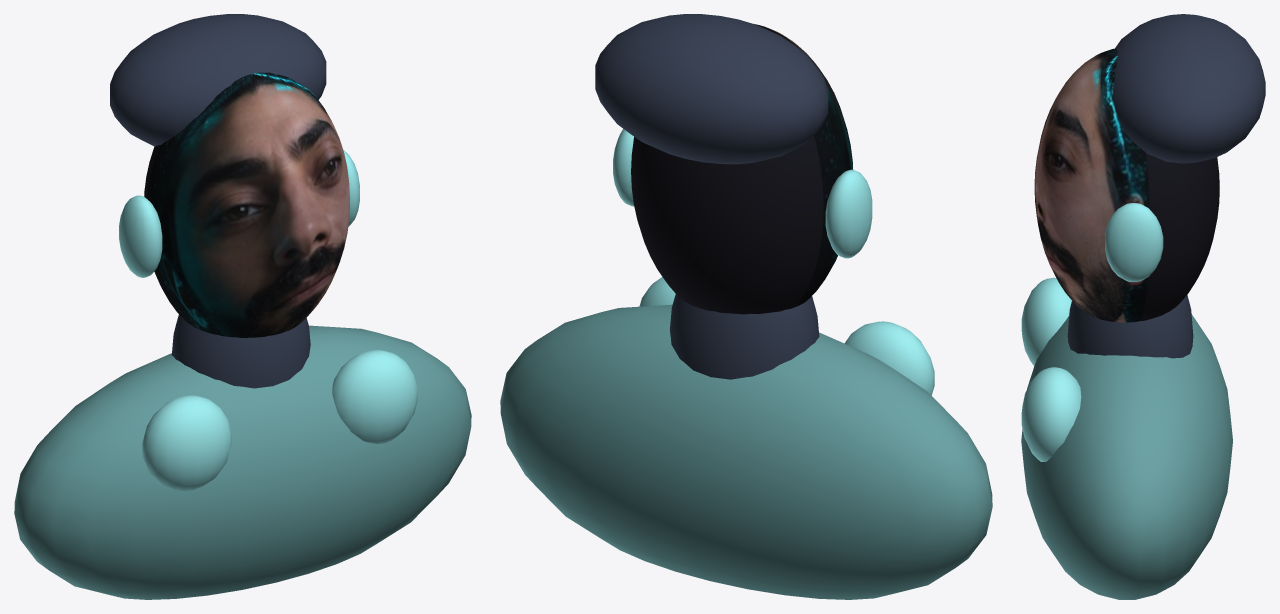
The model's file is performer.glb.
3 renders of one model, left to right at view 1: azimuth 30°, elevation 25°; view 2: azimuth 150°, elevation 25°; view 3: azimuth 270°, elevation 25°, orthographic. The views are drawn at different scales.
Bounding box in the file's own units: 1.53 × 1.68 × 0.7386.
4 materials, 1 textured.
